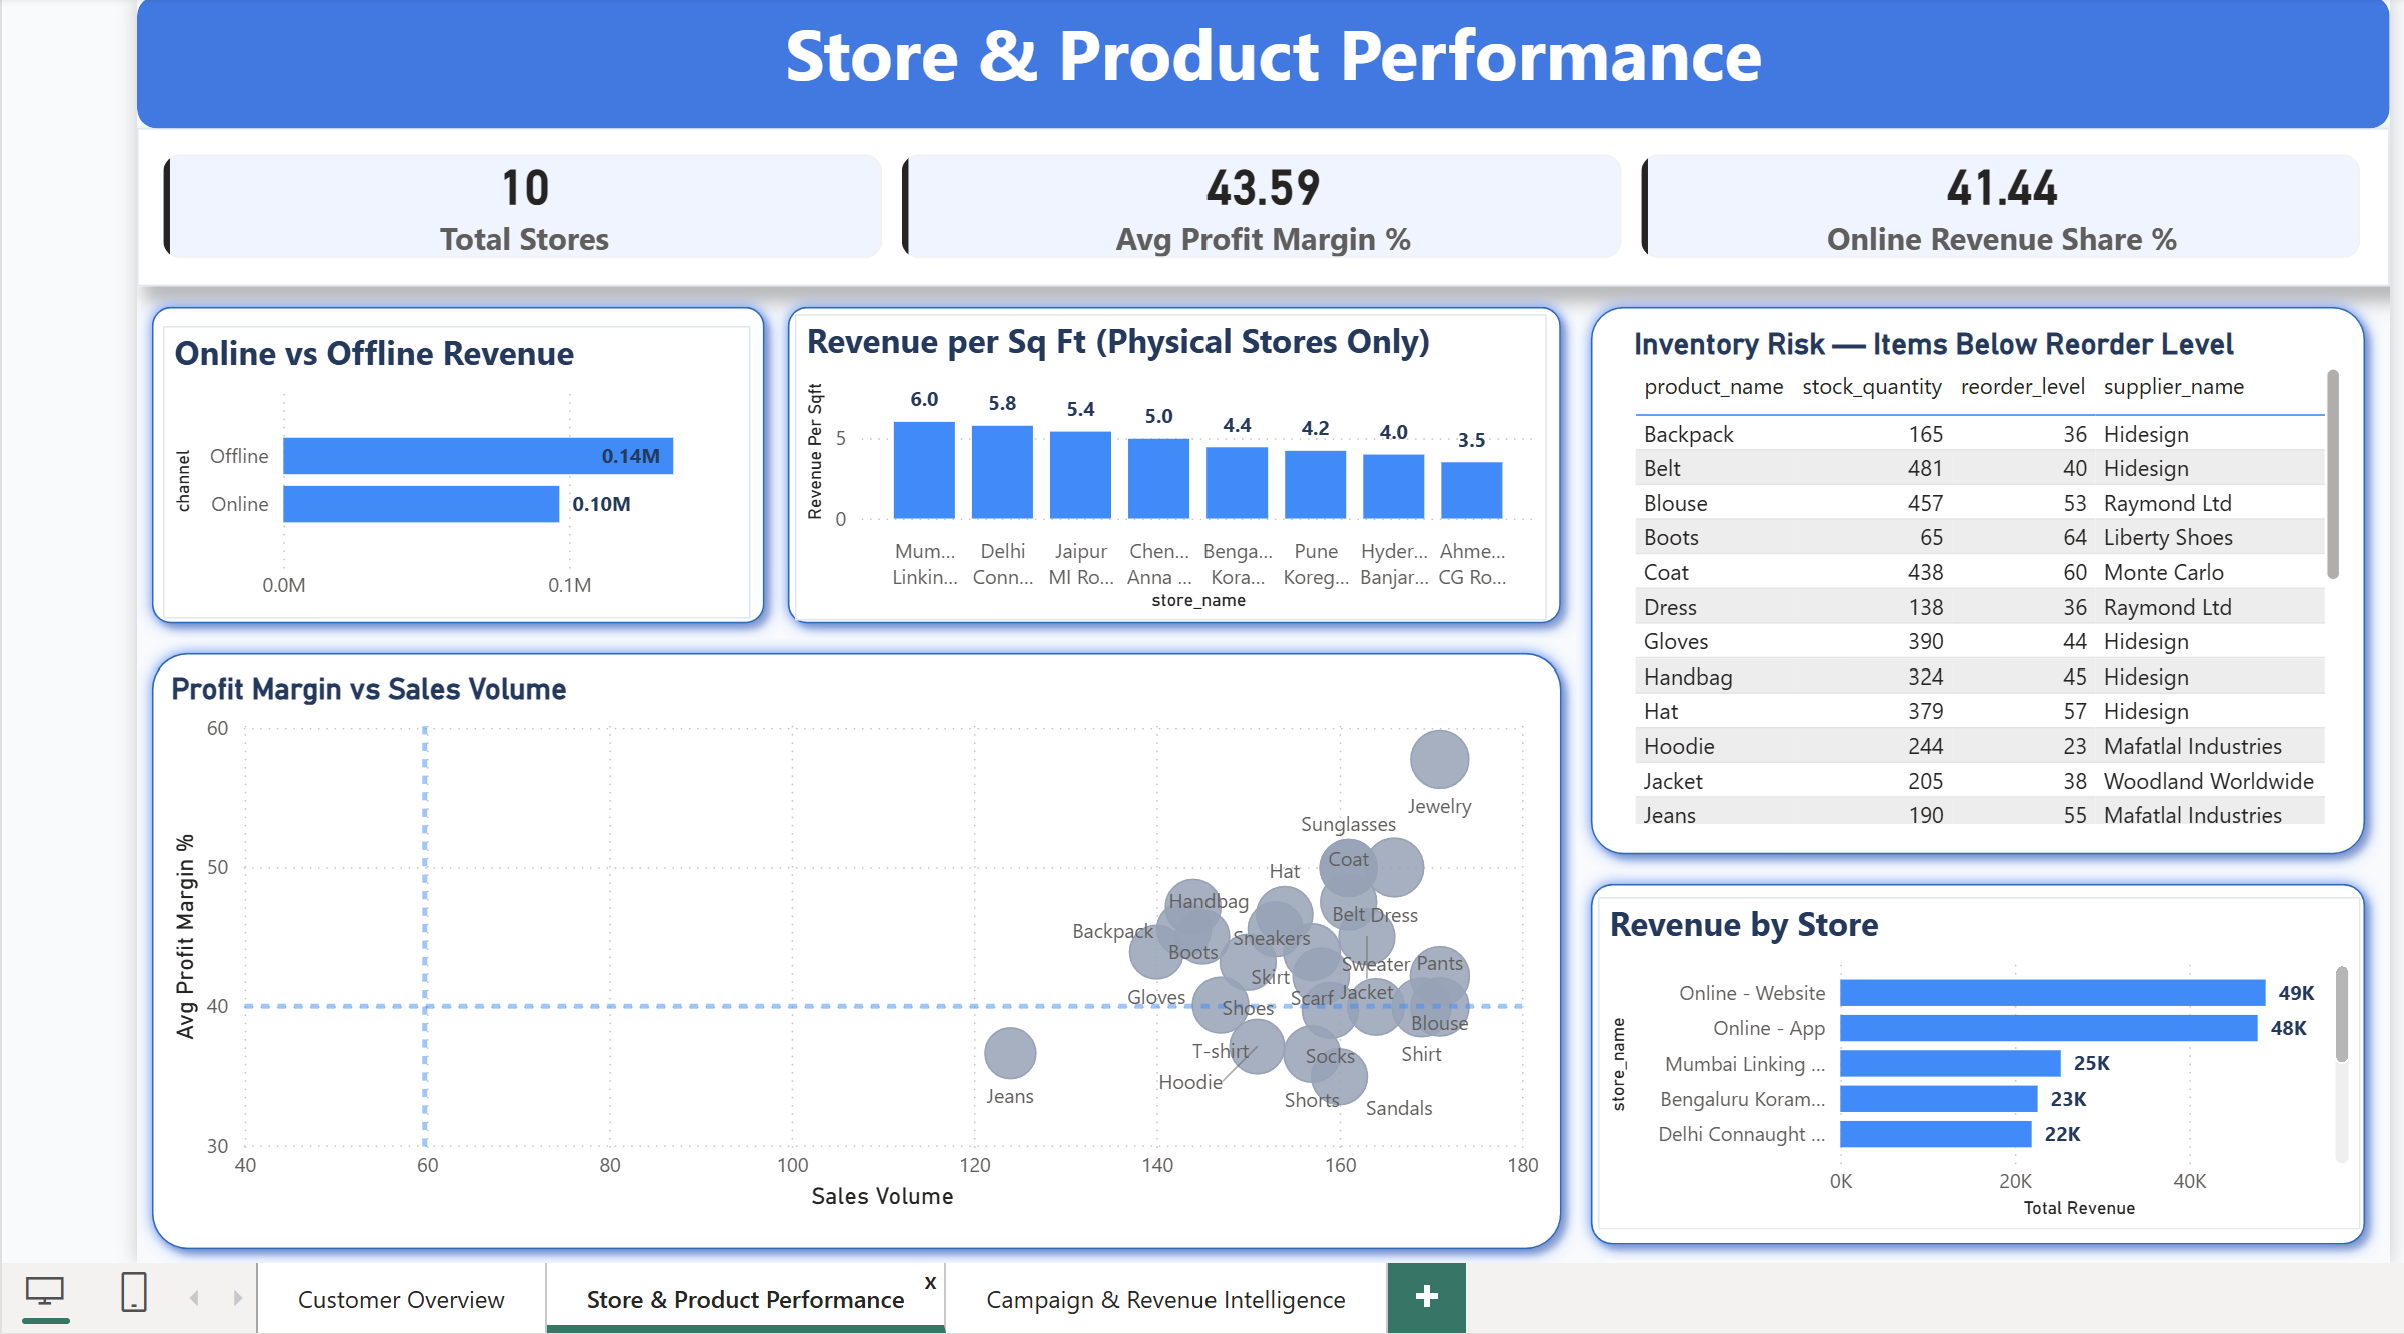

Layout of this report page (visuals, bound fields, positions):
{"tool":"powerbi","page":{"name":"Store & Product Performance","canvas":[1366,768],"ordinal":1},"visuals":[{"type":"cardVisual","fields":{"Data":["Count(stores.store_id)","_Measure.Avg Profit Margin %","_Measure.Online Revenue Share %"]},"box":[0,80.4,1366,95.9],"z":0},{"type":"shape","box":[0,0,1366,80.4],"z":1000},{"type":"shape","box":[386.3,179,486.3,210],"z":2000},{"type":"shape","box":[872.6,179,487.8,349.6],"z":3000},{"type":"clusteredColumnChart","title":"Revenue per Sq Ft (Physical Stores Only)","fields":{"Category":["stores.store_name"],"Y":["_Measure.Revenue Per Sqft"]},"box":[398.9,193.1,455.3,186.1],"z":4000},{"type":"tableEx","title":"Inventory Risk — Items Below Reorder Level","fields":{"Values":["products.product_name","products.stock_quantity","products.reorder_level","products.supplier_name"]},"box":[902.2,200.2,438.4,305.9],"z":5000},{"type":"shape","box":[0,389.1,872.6,379.2],"z":6000},{"type":"scatterChart","title":" Profit Margin vs Sales Volume","fields":{"X":["_Measure.Total Customers"],"Y":["_Measure.Avg Profit Margin %"],"Size":["_Measure.Total Revenue"],"Category":["products.product_name"]},"box":[15.5,408.8,838.8,331.3],"z":7000},{"type":"shape","box":[872.6,528.6,487.8,236.8],"z":8000},{"type":"clusteredBarChart","title":"Revenue by Store","fields":{"Category":["stores.store_name"],"Y":["_Measure.Total Revenue"]},"box":[885.3,545.6,462.4,201.6],"z":9000},{"type":"shape","box":[0,179.6,389.7,210],"z":10000},{"type":"clusteredBarChart","title":"Online vs Offline Revenue","fields":{"Category":["stores.channel"],"Y":["_Measure.Total Revenue"]},"box":[15.5,200.2,356.7,177.6],"z":11000},{"type":"textbox","box":[100.1,0,1179.9,80.4],"z":12000}]}

Visuals, with their boxes in screenshot pixels (x1, y1, x2, y2):
cardVisual - Count(stores.store_id) x _Measure.Avg Profit Margin %: (left=119, top=120, right=2375, bottom=279)
shape: (left=119, top=0, right=2375, bottom=120)
shape: (left=757, top=283, right=1560, bottom=630)
shape: (left=1560, top=283, right=2366, bottom=861)
"Revenue per Sq Ft (Physical Stores Only)" clusteredColumnChart: (left=778, top=306, right=1530, bottom=614)
"Inventory Risk — Items Below Reorder Level" tableEx: (left=1609, top=318, right=2333, bottom=823)
shape: (left=119, top=630, right=1560, bottom=1256)
" Profit Margin vs Sales Volume" scatterChart: (left=145, top=663, right=1530, bottom=1210)
shape: (left=1560, top=861, right=2366, bottom=1252)
"Revenue by Store" clusteredBarChart: (left=1581, top=889, right=2345, bottom=1222)
shape: (left=119, top=284, right=763, bottom=631)
"Online vs Offline Revenue" clusteredBarChart: (left=145, top=318, right=734, bottom=611)
textbox: (left=284, top=0, right=2233, bottom=120)
